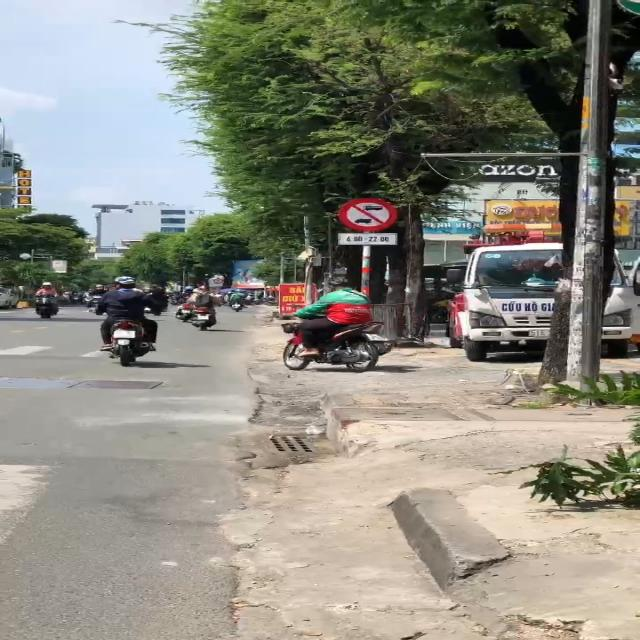Bien bao cam xe oto khach va xe oto tai: (333, 195, 403, 233)
